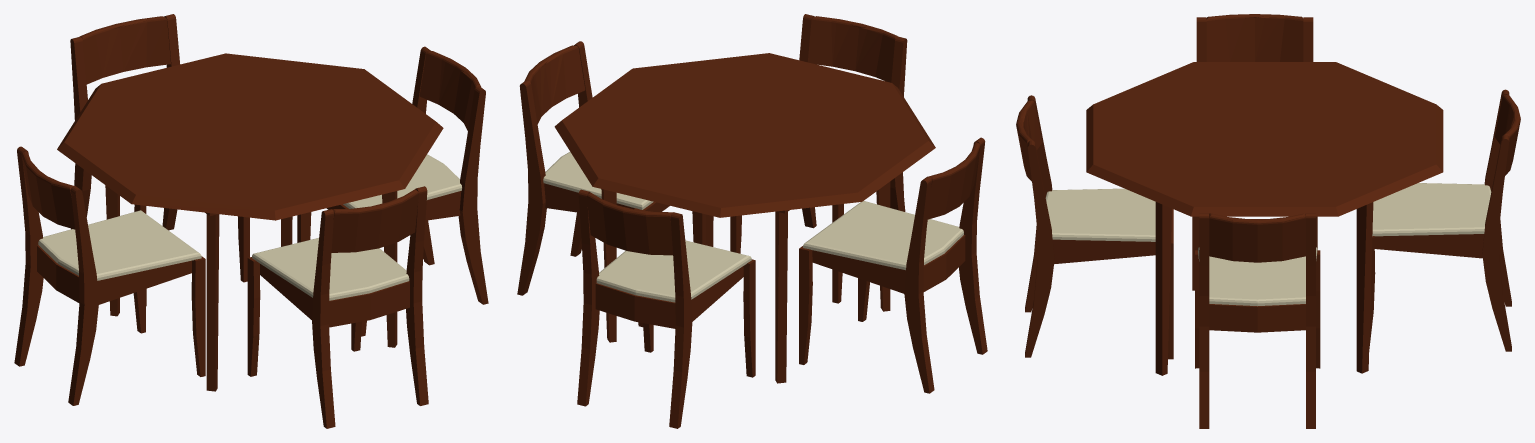
The model's file is sofa.obj.
The picture shows the model from 3 angles, left to right: view 1: azimuth 30°, elevation 25°; view 2: azimuth 150°, elevation 25°; view 3: azimuth 270°, elevation 25°; orthographic projection.
Size of the model in its own units: 66.44 by 31.6 by 67.9.
